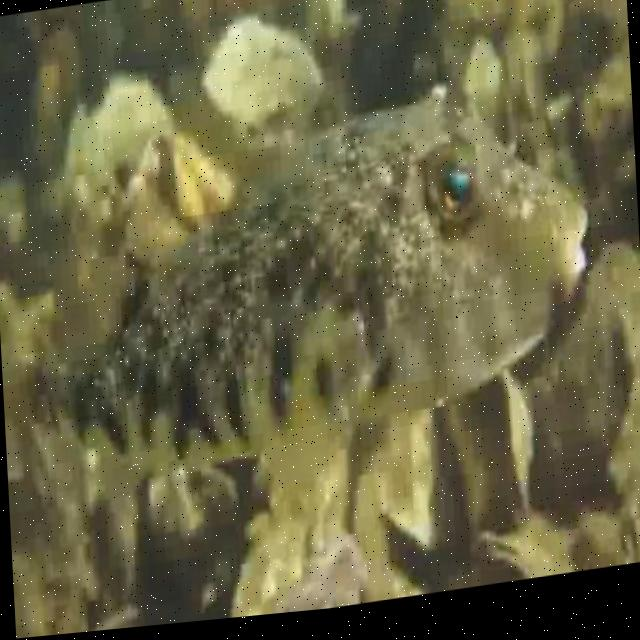Oyster-Closed: (203, 14, 325, 147), (552, 307, 632, 487), (477, 533, 578, 586), (626, 499, 640, 563)
Oyster-Indeterminate: (587, 235, 640, 499), (81, 67, 172, 205), (380, 414, 468, 542), (238, 529, 365, 617), (472, 40, 507, 143), (64, 104, 85, 230)
Oyster-Open: (132, 136, 236, 254)
